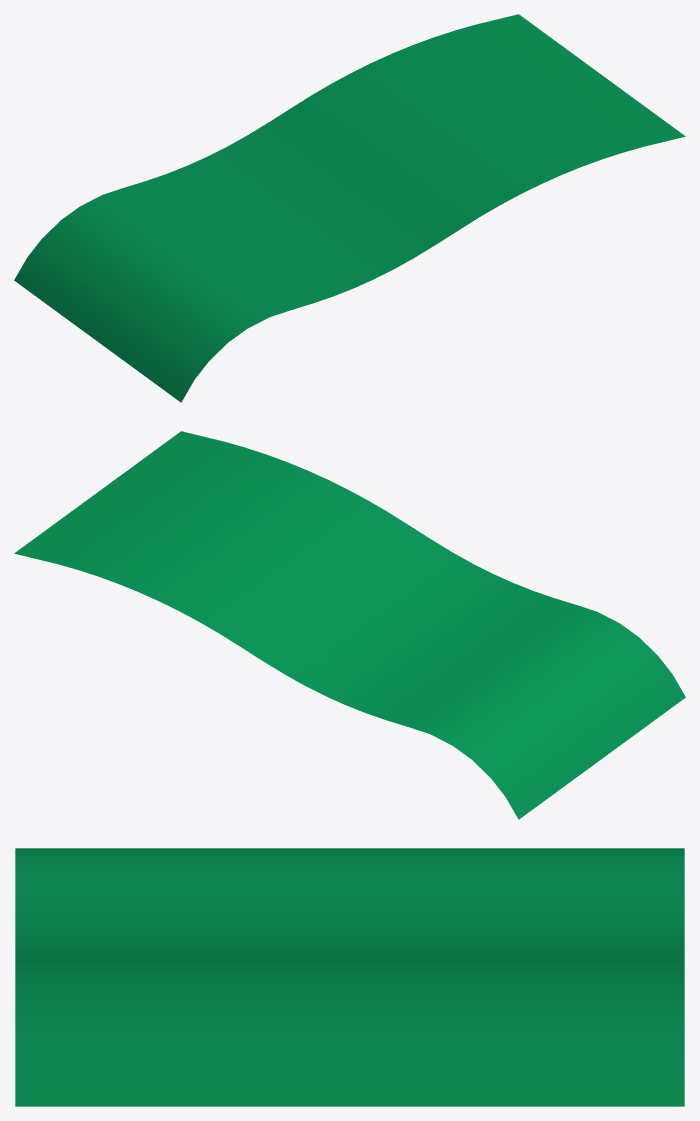
Rendered from RunnelWaterramp.fbx.
3 views of the same model, one above another, from view 1: azimuth 30°, elevation 25°; view 2: azimuth 150°, elevation 25°; view 3: azimuth 270°, elevation 25° (orthographic). The views are drawn at different scales.
Parts seen in each view (by area): view 1: LargeWaterfall; view 2: LargeWaterfall; view 3: LargeWaterfall.
Part boxes in pixels (<box>): LargeWaterfall: <box>14,14,685,402</box>; LargeWaterfall: <box>14,431,685,819</box>; LargeWaterfall: <box>15,848,684,1106</box>.
Bounding box in the file's own units: 1921 × 520 × 1102.
